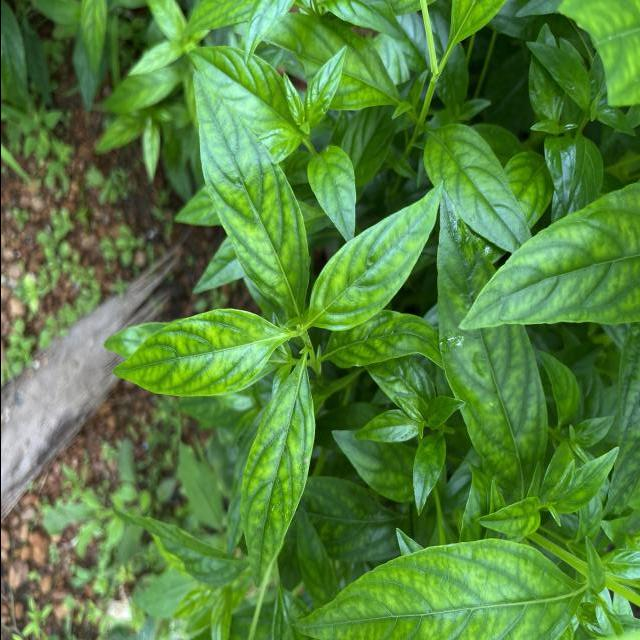Andrographis paniculata: (435, 198, 549, 502), (291, 536, 582, 640), (190, 68, 310, 314), (306, 180, 444, 332), (237, 356, 315, 590), (108, 308, 280, 398), (422, 121, 532, 245), (306, 142, 356, 244), (306, 43, 348, 126)
